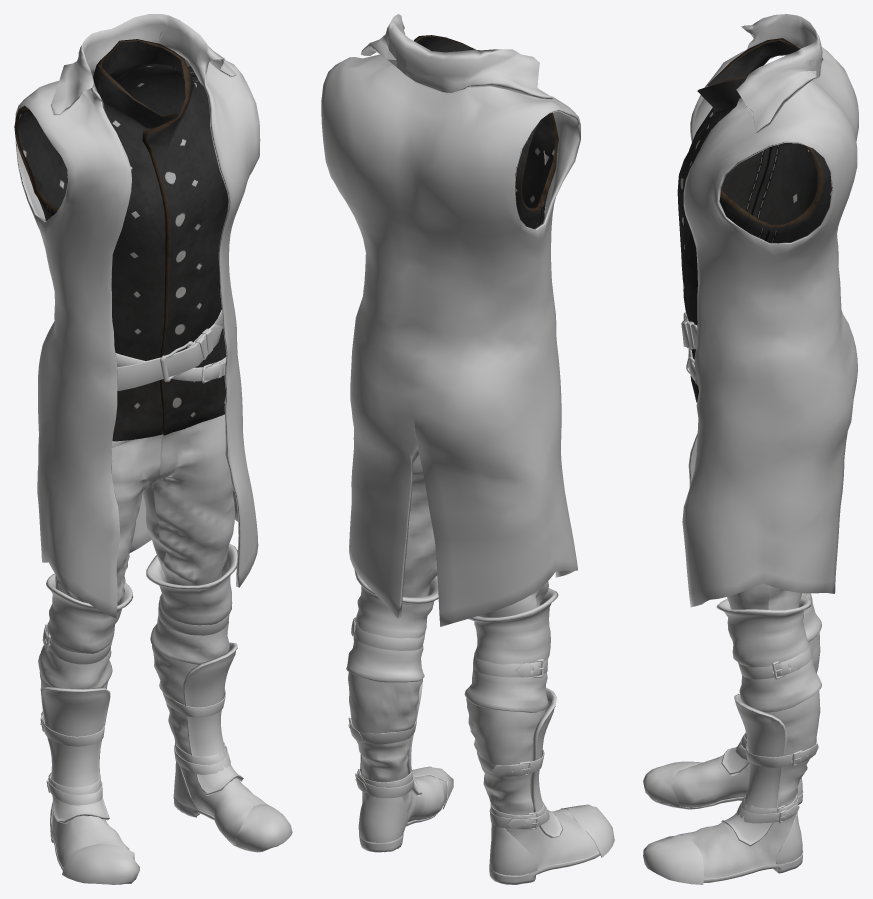
File: clothes.fbx
3 renders of one model, left to right at view 1: azimuth 30°, elevation 25°; view 2: azimuth 150°, elevation 25°; view 3: azimuth 270°, elevation 25°, orthographic. The views are drawn at different scales.
Visible parts, largest first — view 1: Shadowstride Cloak, Vest, Shadowblade Outlaw Boots, Shadowblade Outlaw Boots2, Shadowblade Outlaw Pants; view 2: Shadowstride Cloak, Shadowblade Outlaw Boots2, Shadowblade Outlaw Boots, Vest, Shadowblade Outlaw Pants; view 3: Shadowstride Cloak, Shadowblade Outlaw Boots, Vest, Shadowblade Outlaw Boots2, Shadowblade Outlaw Pants.
Part boxes in pixels (bbox=[...]): Shadowstride Cloak: bbox=[15, 14, 260, 618]; Vest: bbox=[14, 39, 228, 441]; Shadowblade Outlaw Boots: bbox=[146, 544, 292, 852]; Shadowblade Outlaw Boots2: bbox=[38, 573, 139, 884]; Shadowblade Outlaw Pants: bbox=[55, 414, 235, 604]; Shadowstride Cloak: bbox=[321, 14, 580, 626]; Shadowblade Outlaw Boots2: bbox=[464, 588, 614, 884]; Shadowblade Outlaw Boots: bbox=[346, 569, 453, 852]; Vest: bbox=[414, 35, 558, 228]; Shadowblade Outlaw Pants: bbox=[403, 455, 548, 617]; Shadowstride Cloak: bbox=[682, 14, 858, 607]; Shadowblade Outlaw Boots: bbox=[643, 596, 821, 884]; Vest: bbox=[677, 38, 831, 402]; Shadowblade Outlaw Boots2: bbox=[643, 593, 821, 809]; Shadowblade Outlaw Pants: bbox=[727, 583, 802, 610].
Size of the model in its own units: 48.1 by 167 by 40.43.
